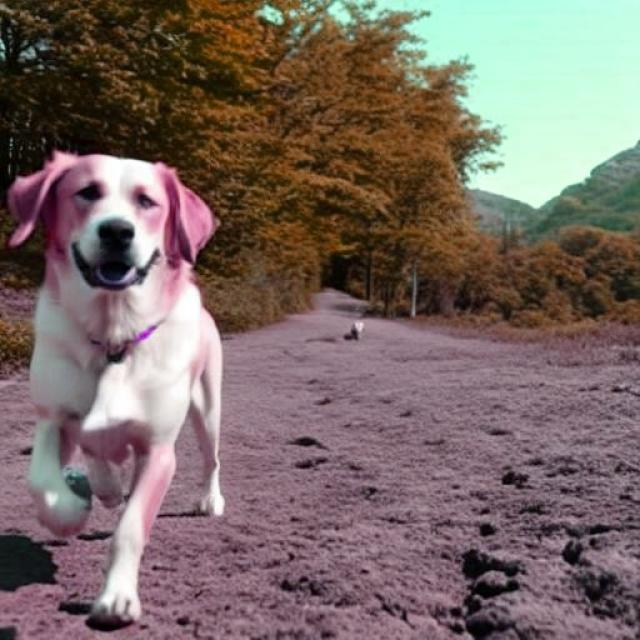Dog: (7, 148, 225, 626)
